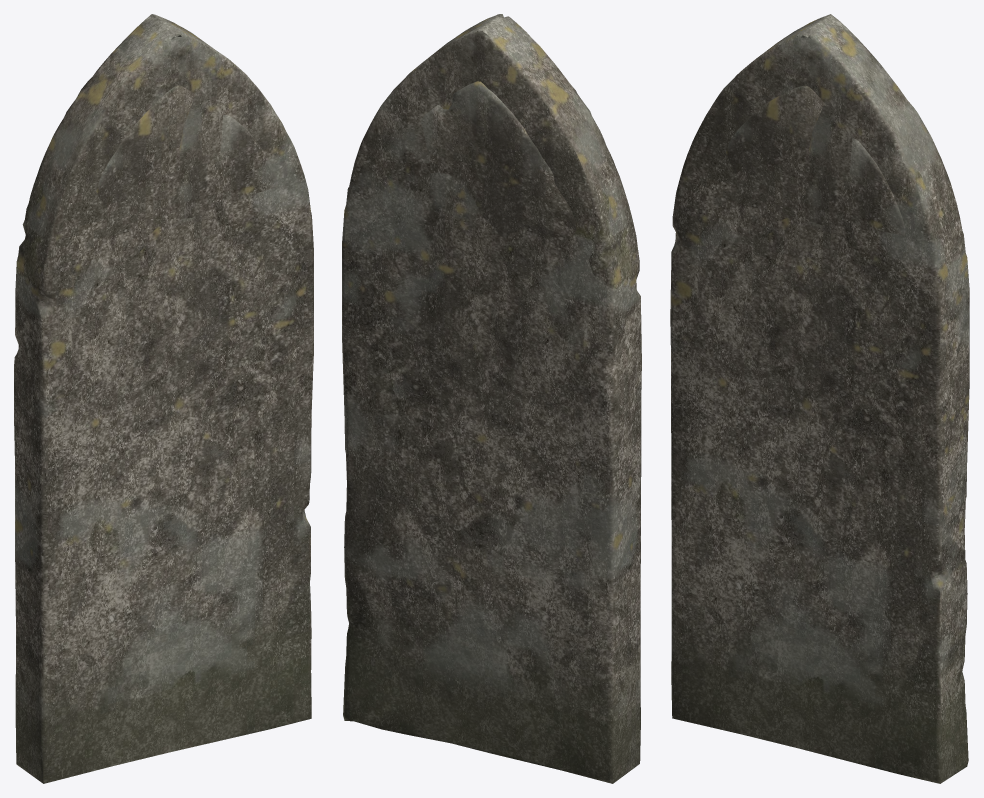
Rendered from tallGothic.glb.
3 views of the same model, side by side, from view 1: azimuth 30°, elevation 25°; view 2: azimuth 150°, elevation 25°; view 3: azimuth 330°, elevation 25° (orthographic).
Parts seen in each view (by area): view 1: tallGothic_a, tallGothic_b; view 2: tallGothic_a, tallGothic_b; view 3: tallGothic_a, tallGothic_b.
Part boxes in pixels (x1,y1,x2,y2): tallGothic_a: (14,14,313,783); tallGothic_b: (96,85,278,261); tallGothic_a: (342,14,641,783); tallGothic_b: (410,81,576,368); tallGothic_a: (670,14,969,783); tallGothic_b: (726,85,905,237).
Bounding box in the file's own units: 0.6719 × 1.69 × 0.1321.
2 materials, 2 textured.
